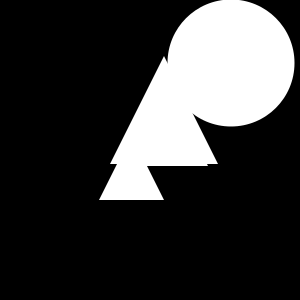rectangle: (168, 0, 294, 126)
triangle: (110, 56, 218, 164), (126, 84, 208, 166), (99, 135, 164, 200)
